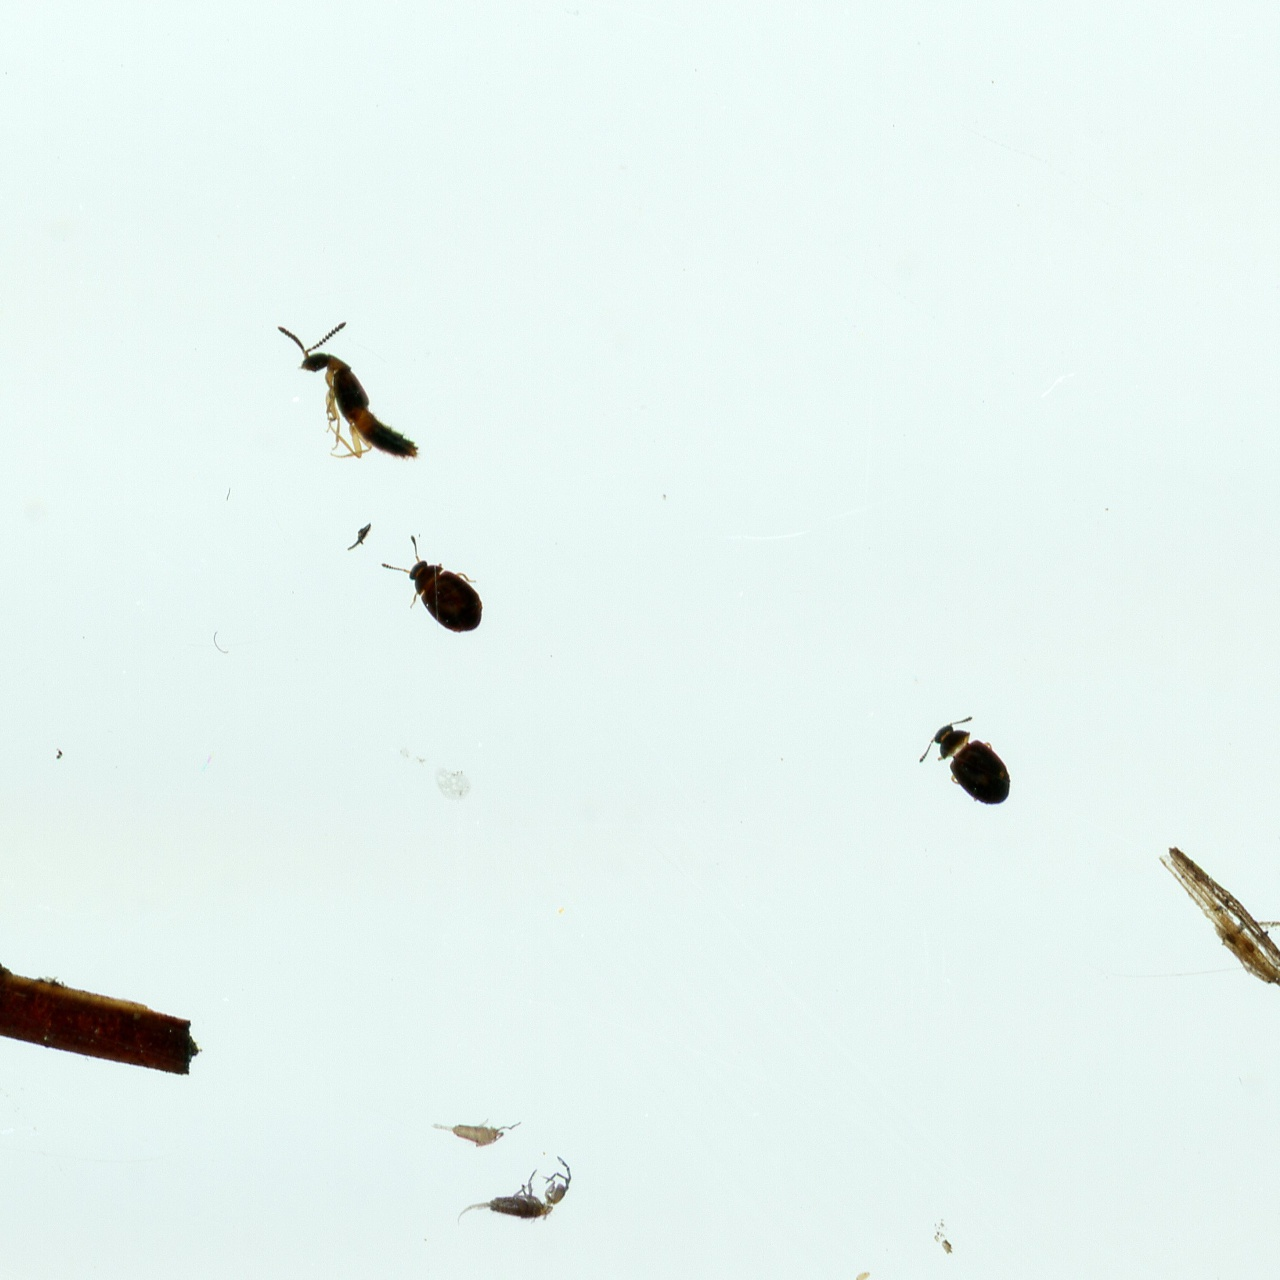arthropod: (268, 309, 430, 475), (379, 531, 490, 641), (449, 1149, 578, 1240), (917, 713, 1023, 809), (429, 1117, 523, 1149)
